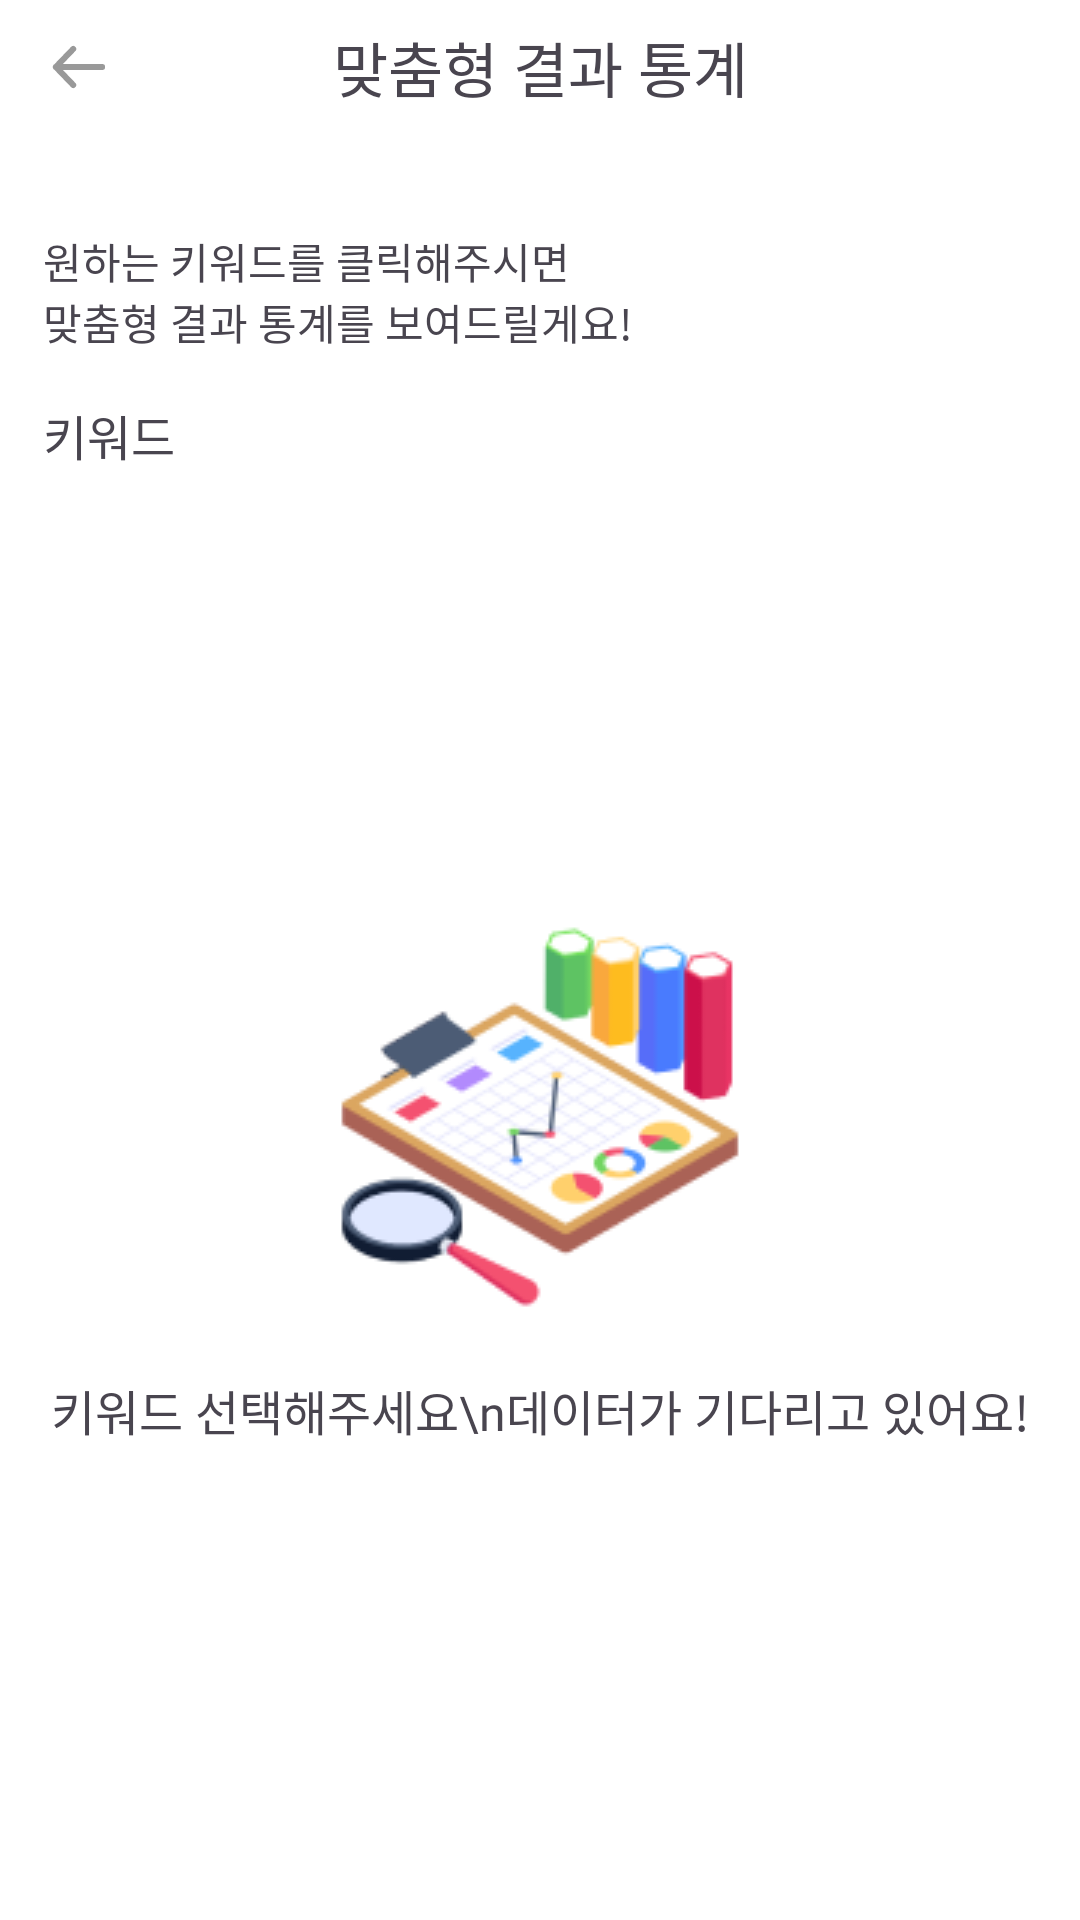

Named icons in this screenshot (1080px×1920px) and their bounding boxes, bbox=[x1, y1, x2, y2]:
back: bbox=[53, 46, 105, 88]
